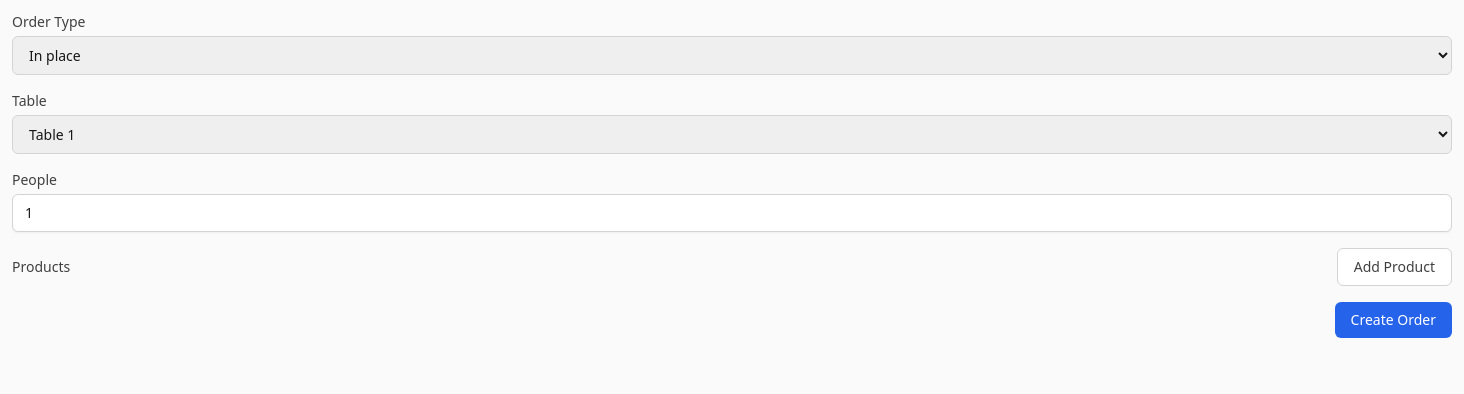
Test case: CreateOrderForm › shows validation error when no products are added
The width and height of the screenshot is (1464, 394).
Click the button "Create Order" at {"x": 1393, "y": 320}, box x1=1335 y1=302 x2=1452 y2=338
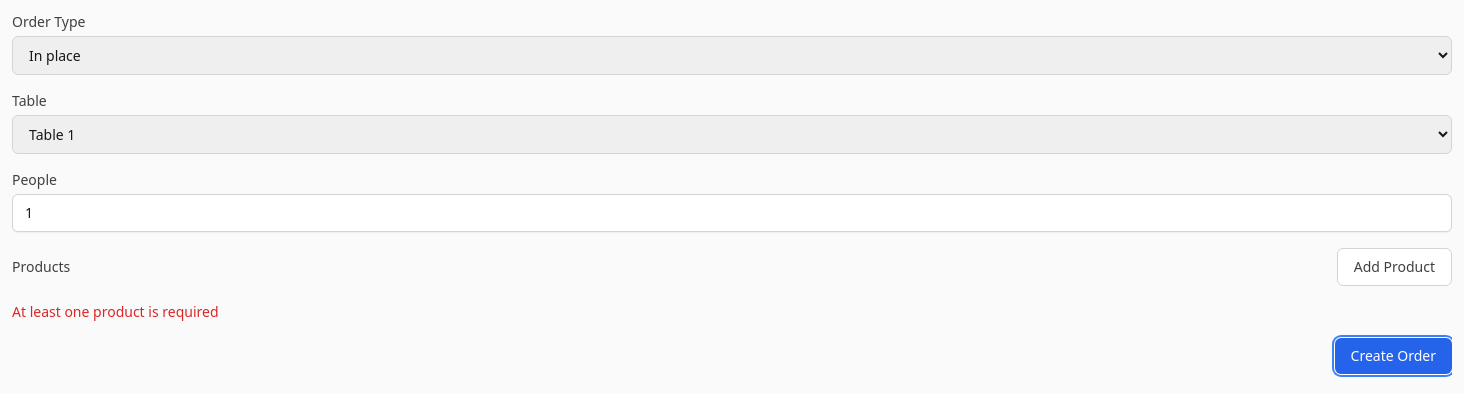
Expected: the text "At least one product is required" is shown, x1=12 y1=302 x2=219 y2=321
